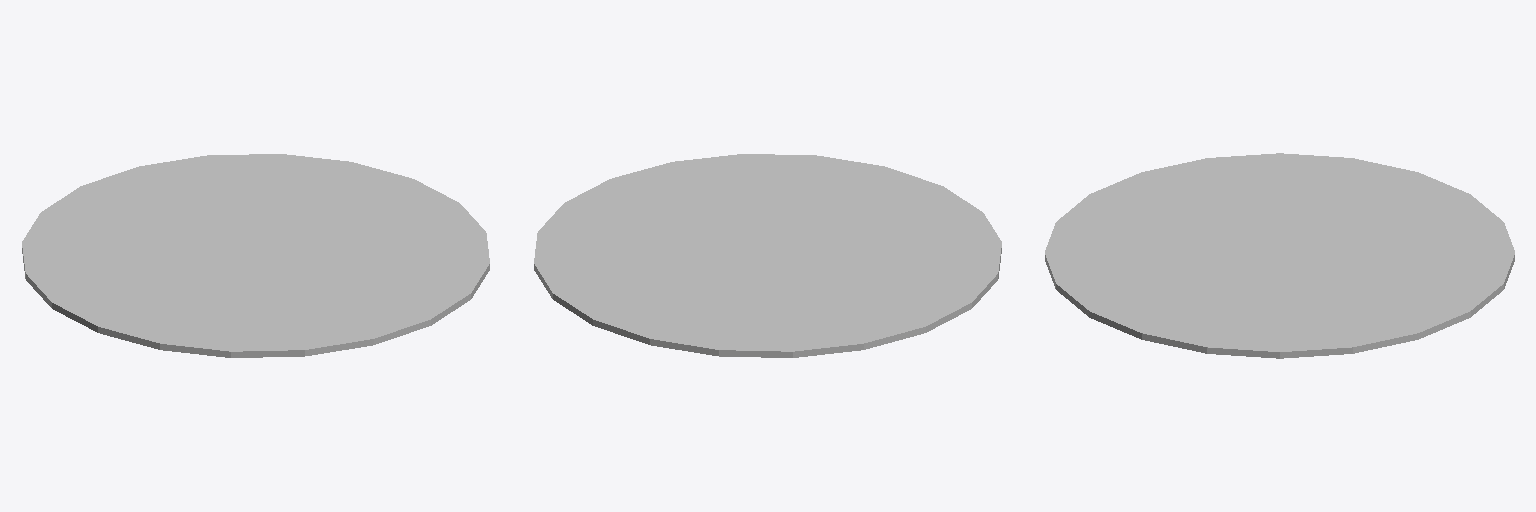
File: floor_01.obj
3 views of the same model, side by side, from view 1: azimuth 30°, elevation 25°; view 2: azimuth 150°, elevation 25°; view 3: azimuth 270°, elevation 25° (orthographic).
Visible parts, largest first — view 1: Floor; view 2: Floor; view 3: Floor.
Part boxes in pixels (x1,y1,x2,y2): Floor: (22, 154, 489, 357); Floor: (534, 154, 1001, 357); Floor: (1045, 153, 1514, 358).
Bounding box in the file's own units: 132 × 2 × 132.